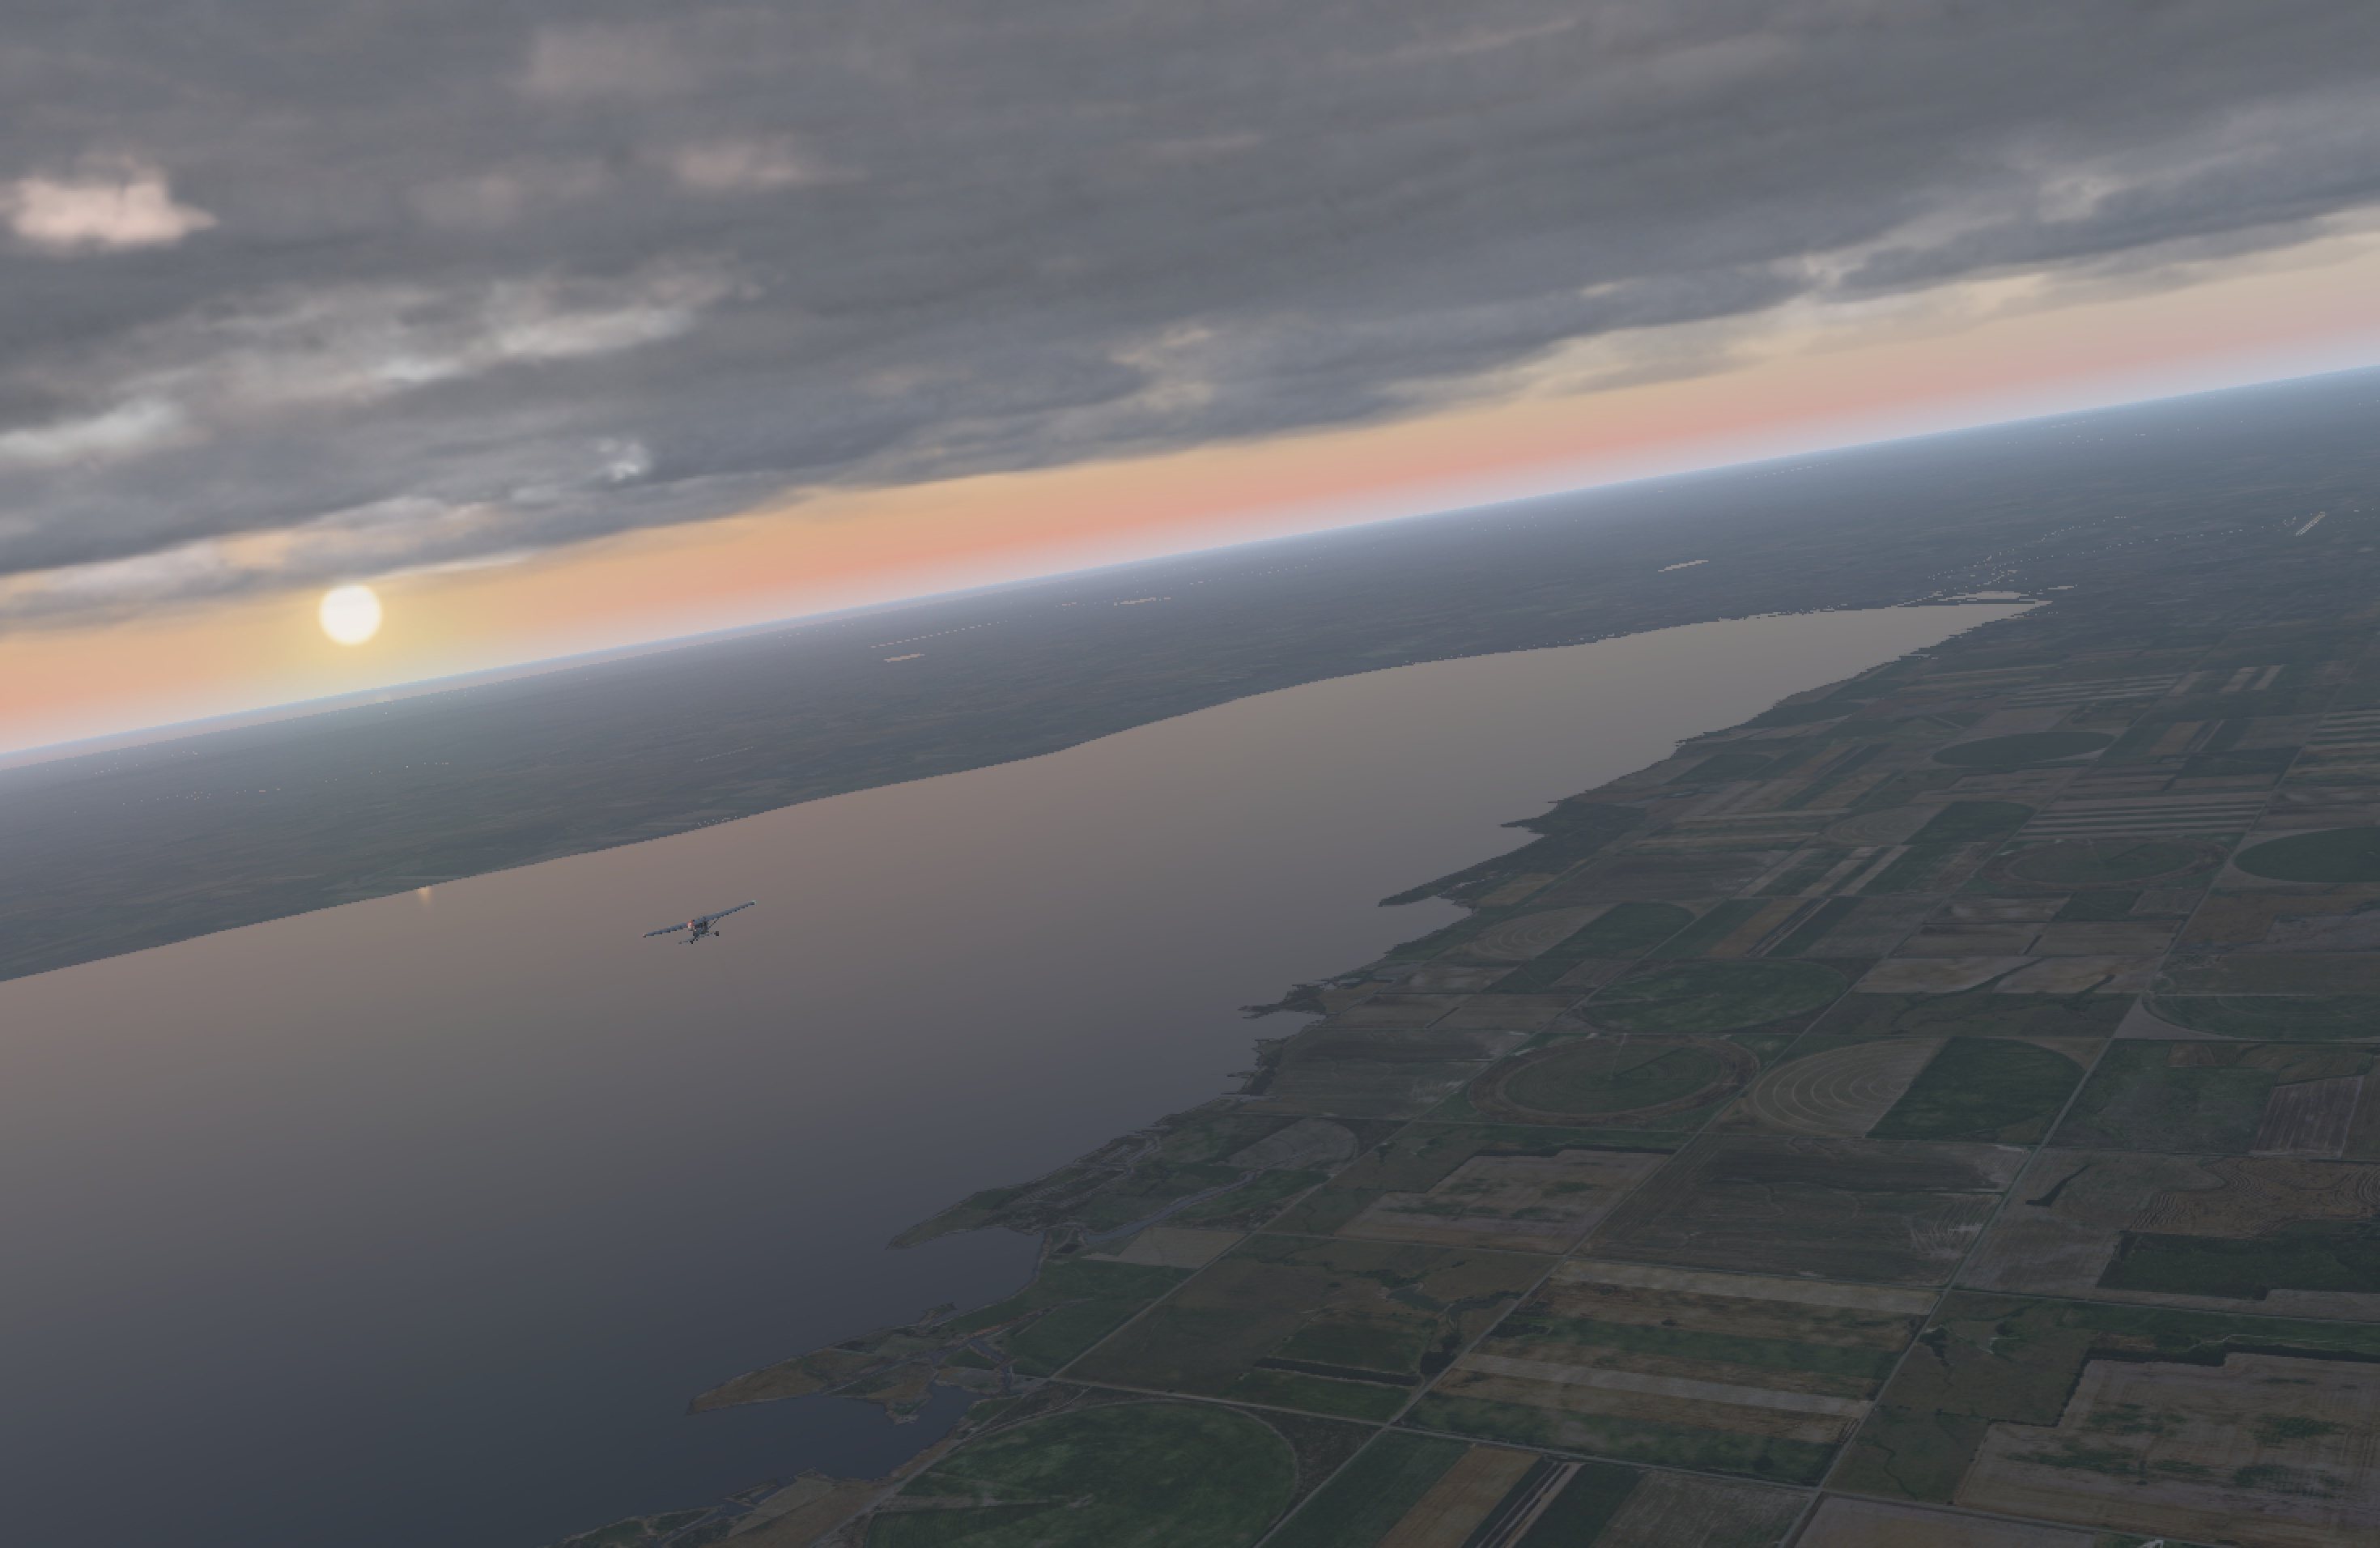aircraft: (661, 911, 741, 941)
